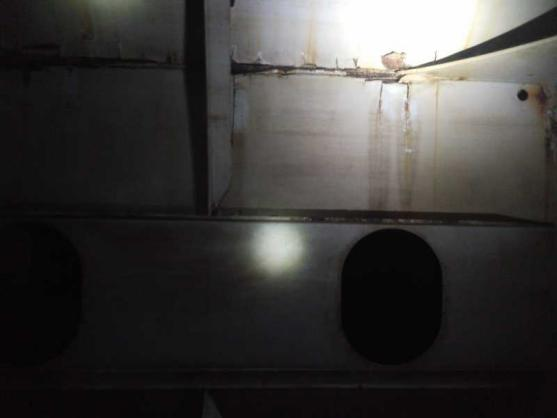corrosion: (369, 89, 392, 205), (228, 74, 248, 207), (402, 82, 419, 208), (536, 113, 557, 214), (516, 80, 557, 116), (332, 64, 400, 84), (366, 45, 412, 67)
